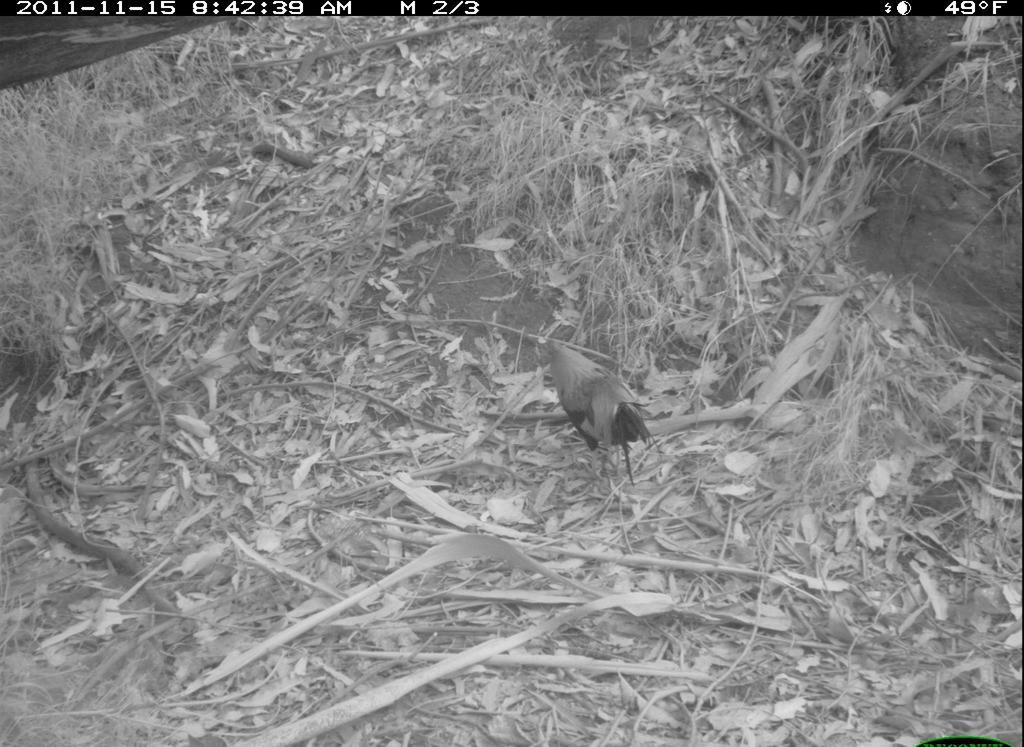bird: (537, 327, 676, 491)
